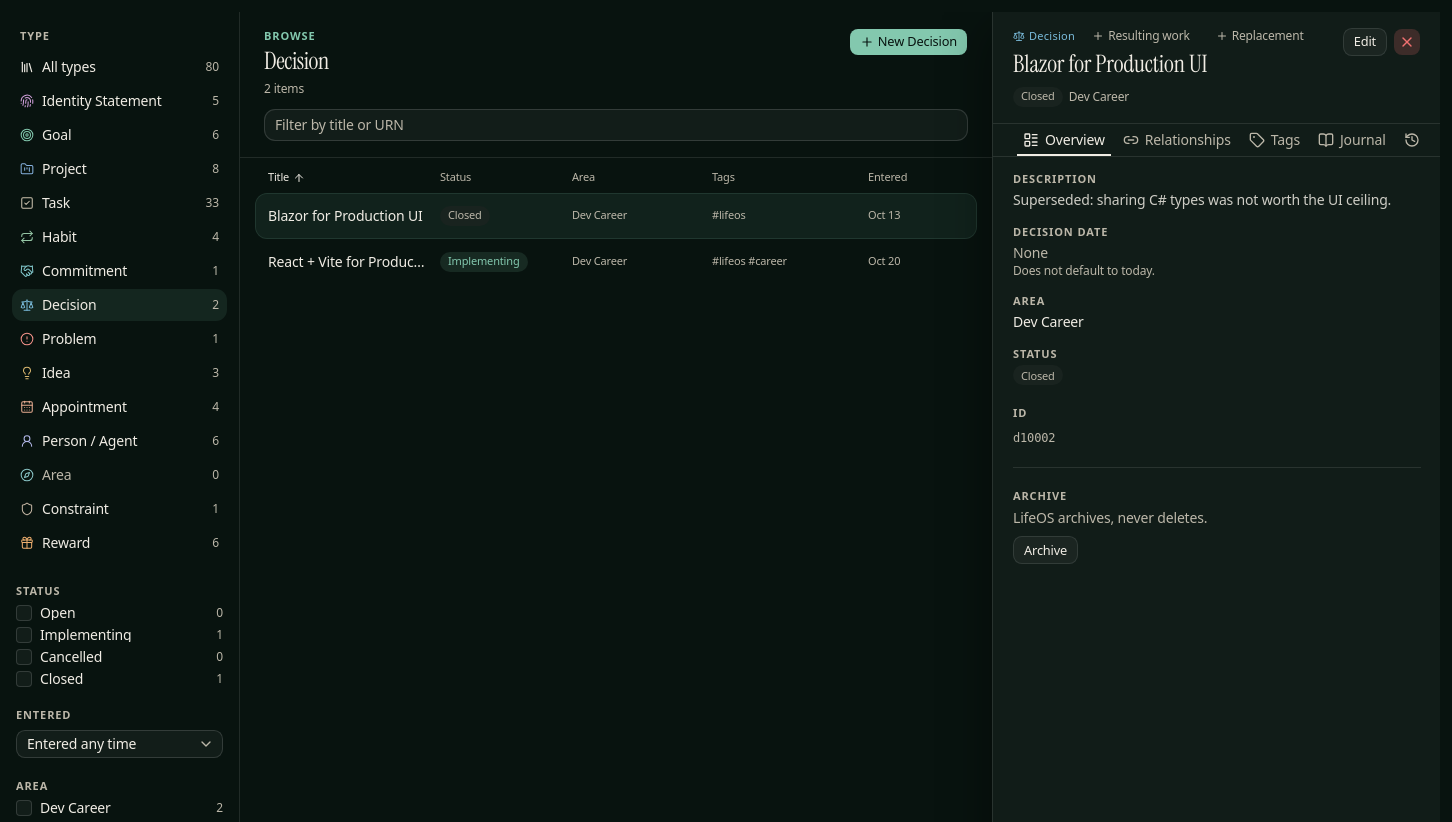
Test case: Browse page (BROWSE-2) › says when the filters hide the open item, and Show it brings it back
Click the 2nd checkbox named "Implementing".
click(24, 635)  # box x1=16 y1=627 x2=32 y2=643
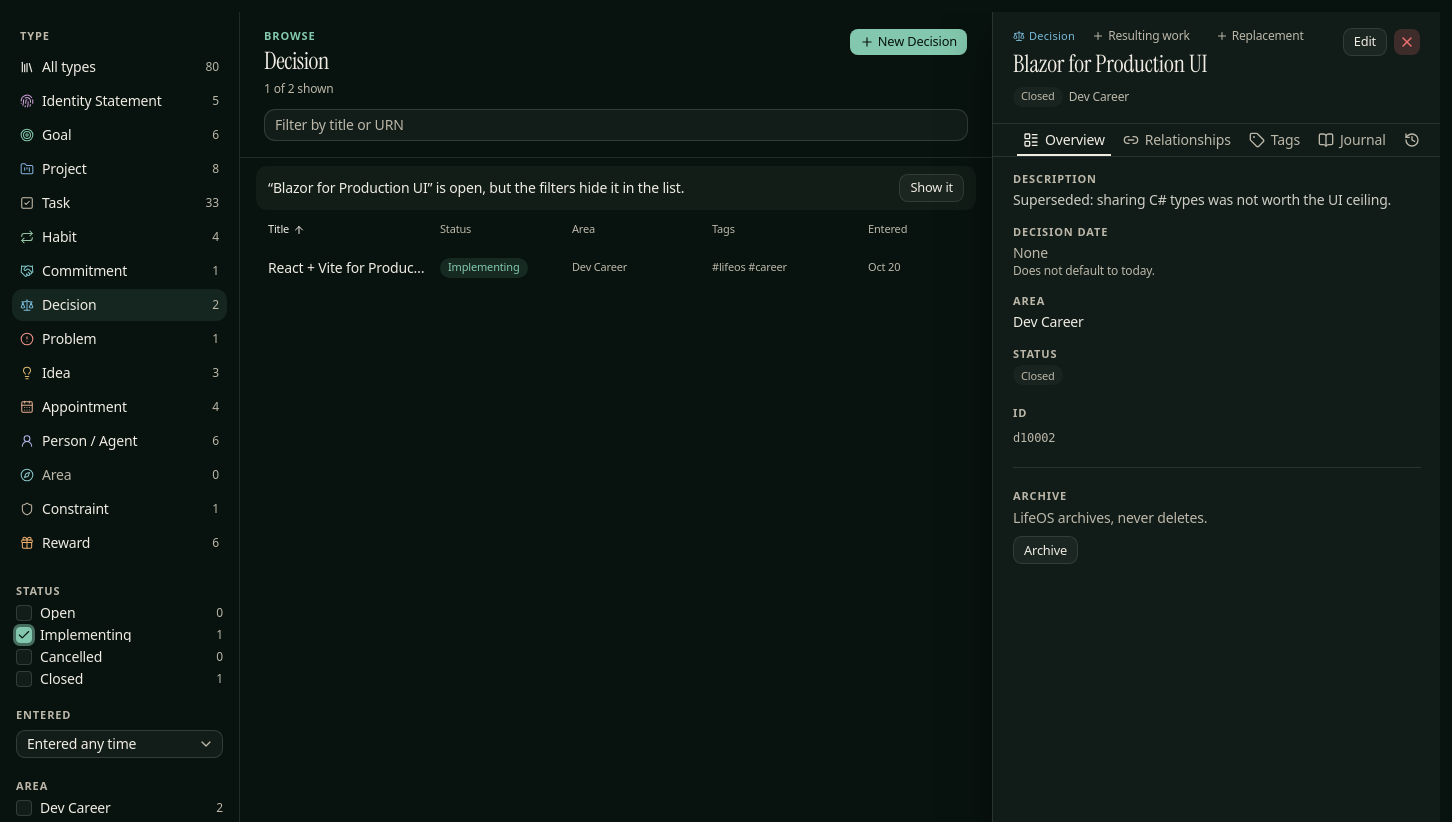
Result: the text "“Blazor for Production UI” is open, but the filters hide it in the list." is shown at x1=268 y1=178 x2=684 y2=198
Click the button "Show it".
click(932, 188)  # box x1=899 y1=174 x2=964 y2=202
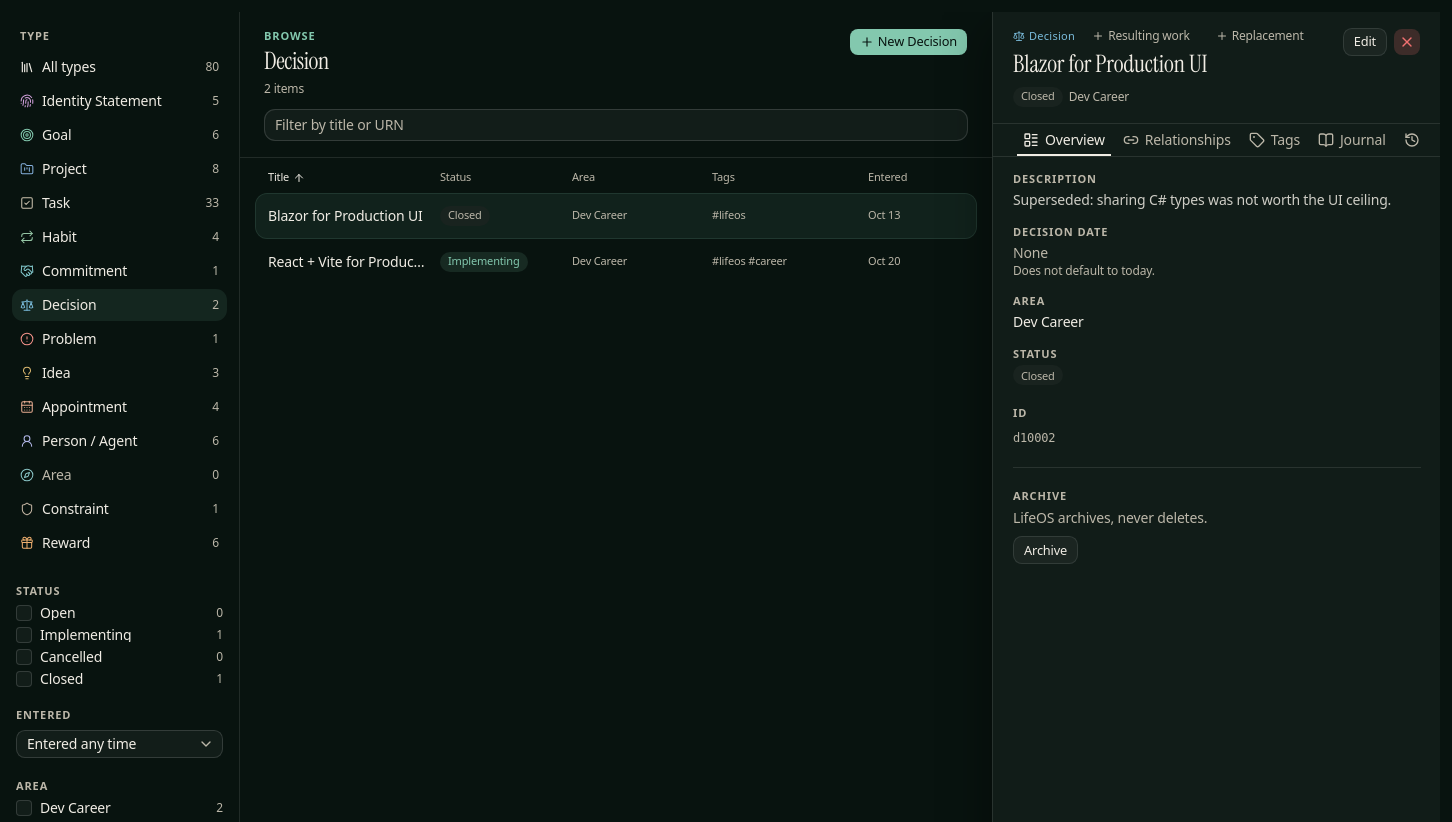
Expected: the text "Blazor for Production UI" is shown, x1=268 y1=206 x2=423 y2=226
Result: the text "the filters hide it" is gone
